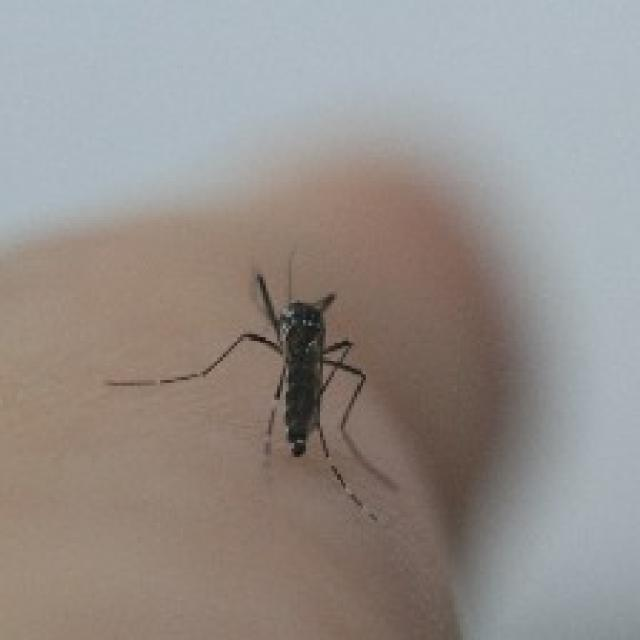aedes: (103, 246, 400, 523)
